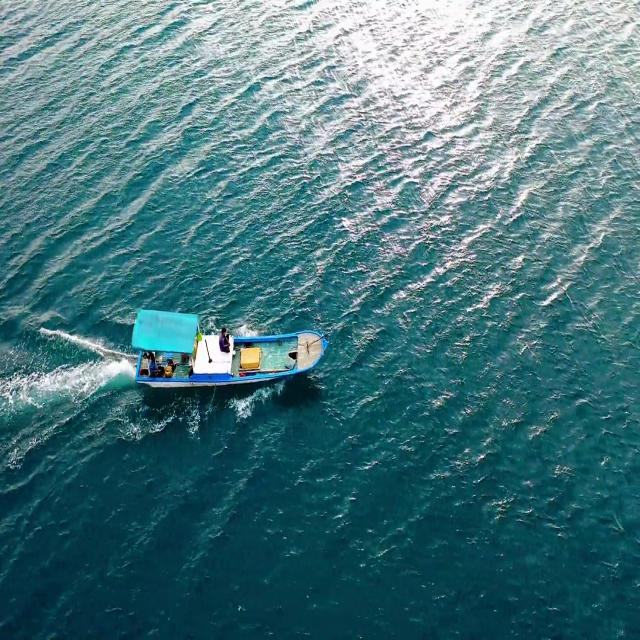ship: (124, 294, 339, 408)
